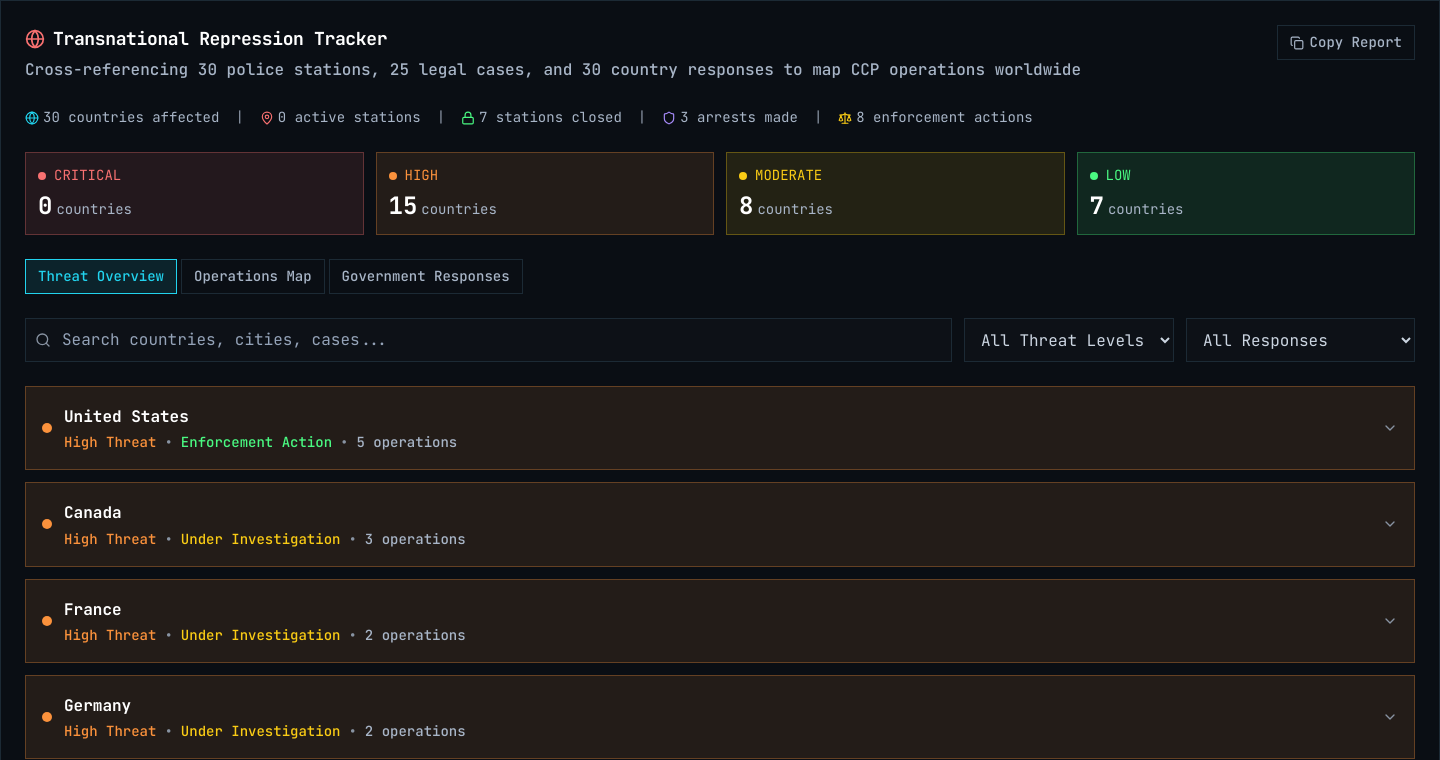
Test: TransnationalRepressionTracker › operations view shows operation type headers
Click the button "Operations Map" at [253, 277], box x1=181 y1=259 x2=325 y2=294
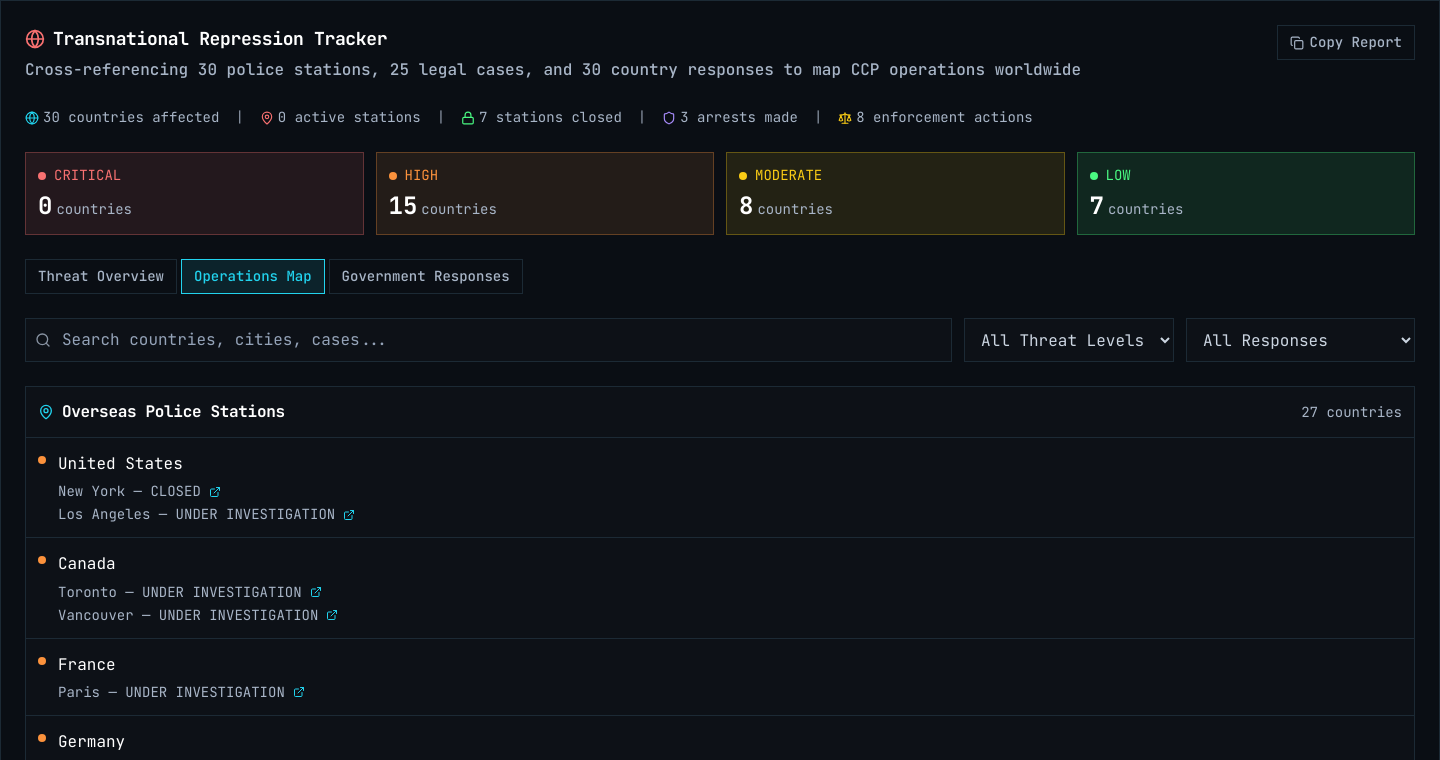
Result: the heading "Overseas Police Stations" is shown at x1=62 y1=399 x2=285 y2=425
